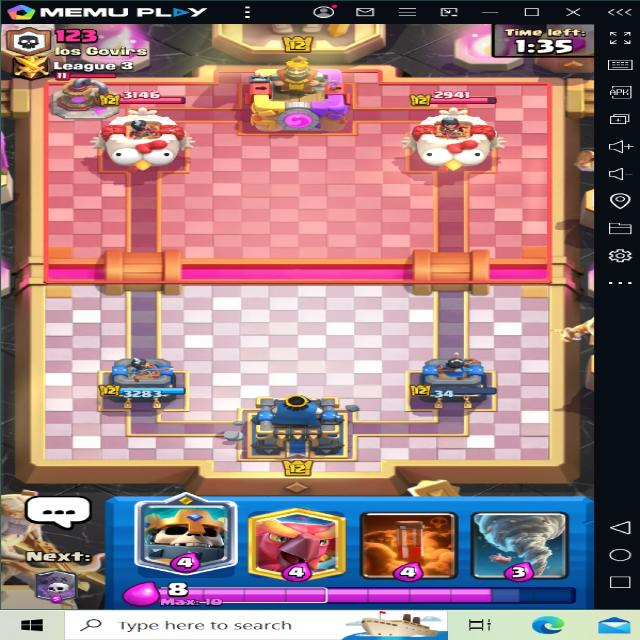elixir-collector: (46, 82, 116, 115)
